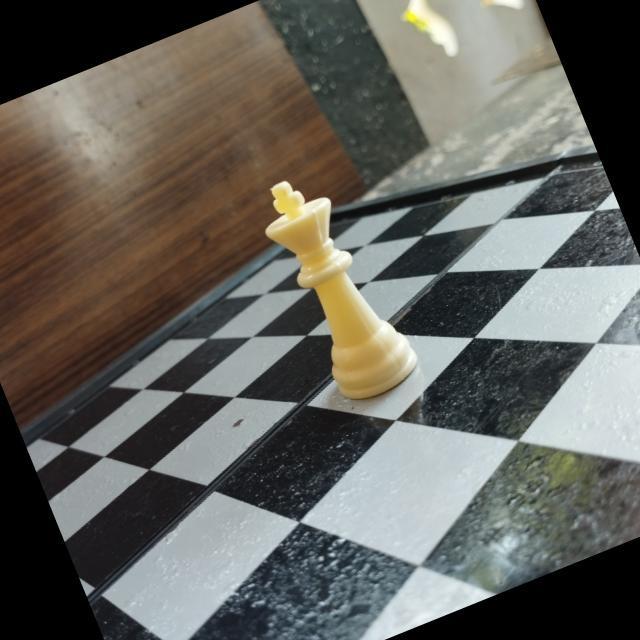White King: (240, 148, 440, 425)
